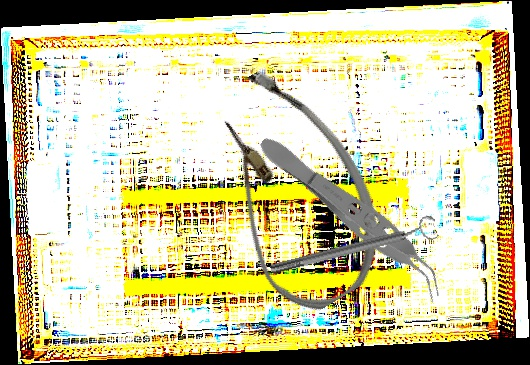Cannula: (171, 52, 411, 327)
Fixation Ring: (267, 213, 440, 282)
Tissue Forceps: (249, 126, 457, 305)
